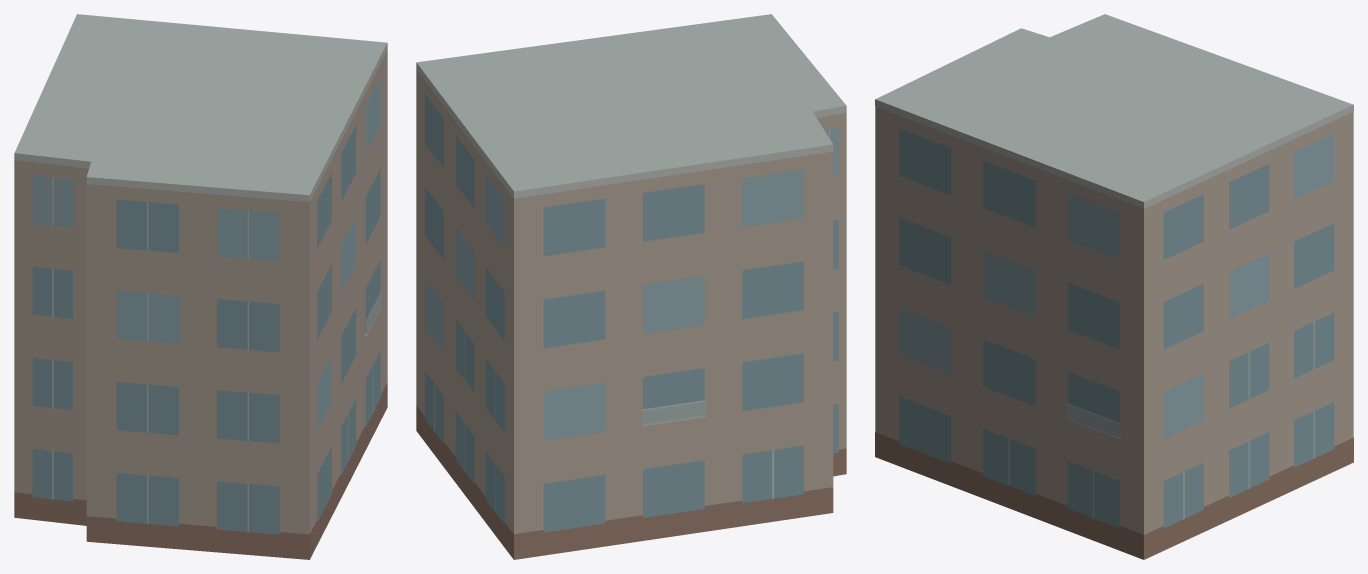
File: survey-upis-32883696.glb
The picture shows the model from 3 angles, left to right: view 1: azimuth 30°, elevation 25°; view 2: azimuth 150°, elevation 25°; view 3: azimuth 270°, elevation 25°; orthographic projection. The views are drawn at different scales.
Parts seen in each view (by area): view 1: survey-upis-32883696.tmp; view 2: survey-upis-32883696.tmp; view 3: survey-upis-32883696.tmp.
Boxes of the visible parts, bbox=[...] form: survey-upis-32883696.tmp: bbox=[14, 14, 387, 559]; survey-upis-32883696.tmp: bbox=[416, 14, 846, 559]; survey-upis-32883696.tmp: bbox=[875, 14, 1353, 559].
Size of the model in its own units: 14.33 by 12.7 by 15.4.
